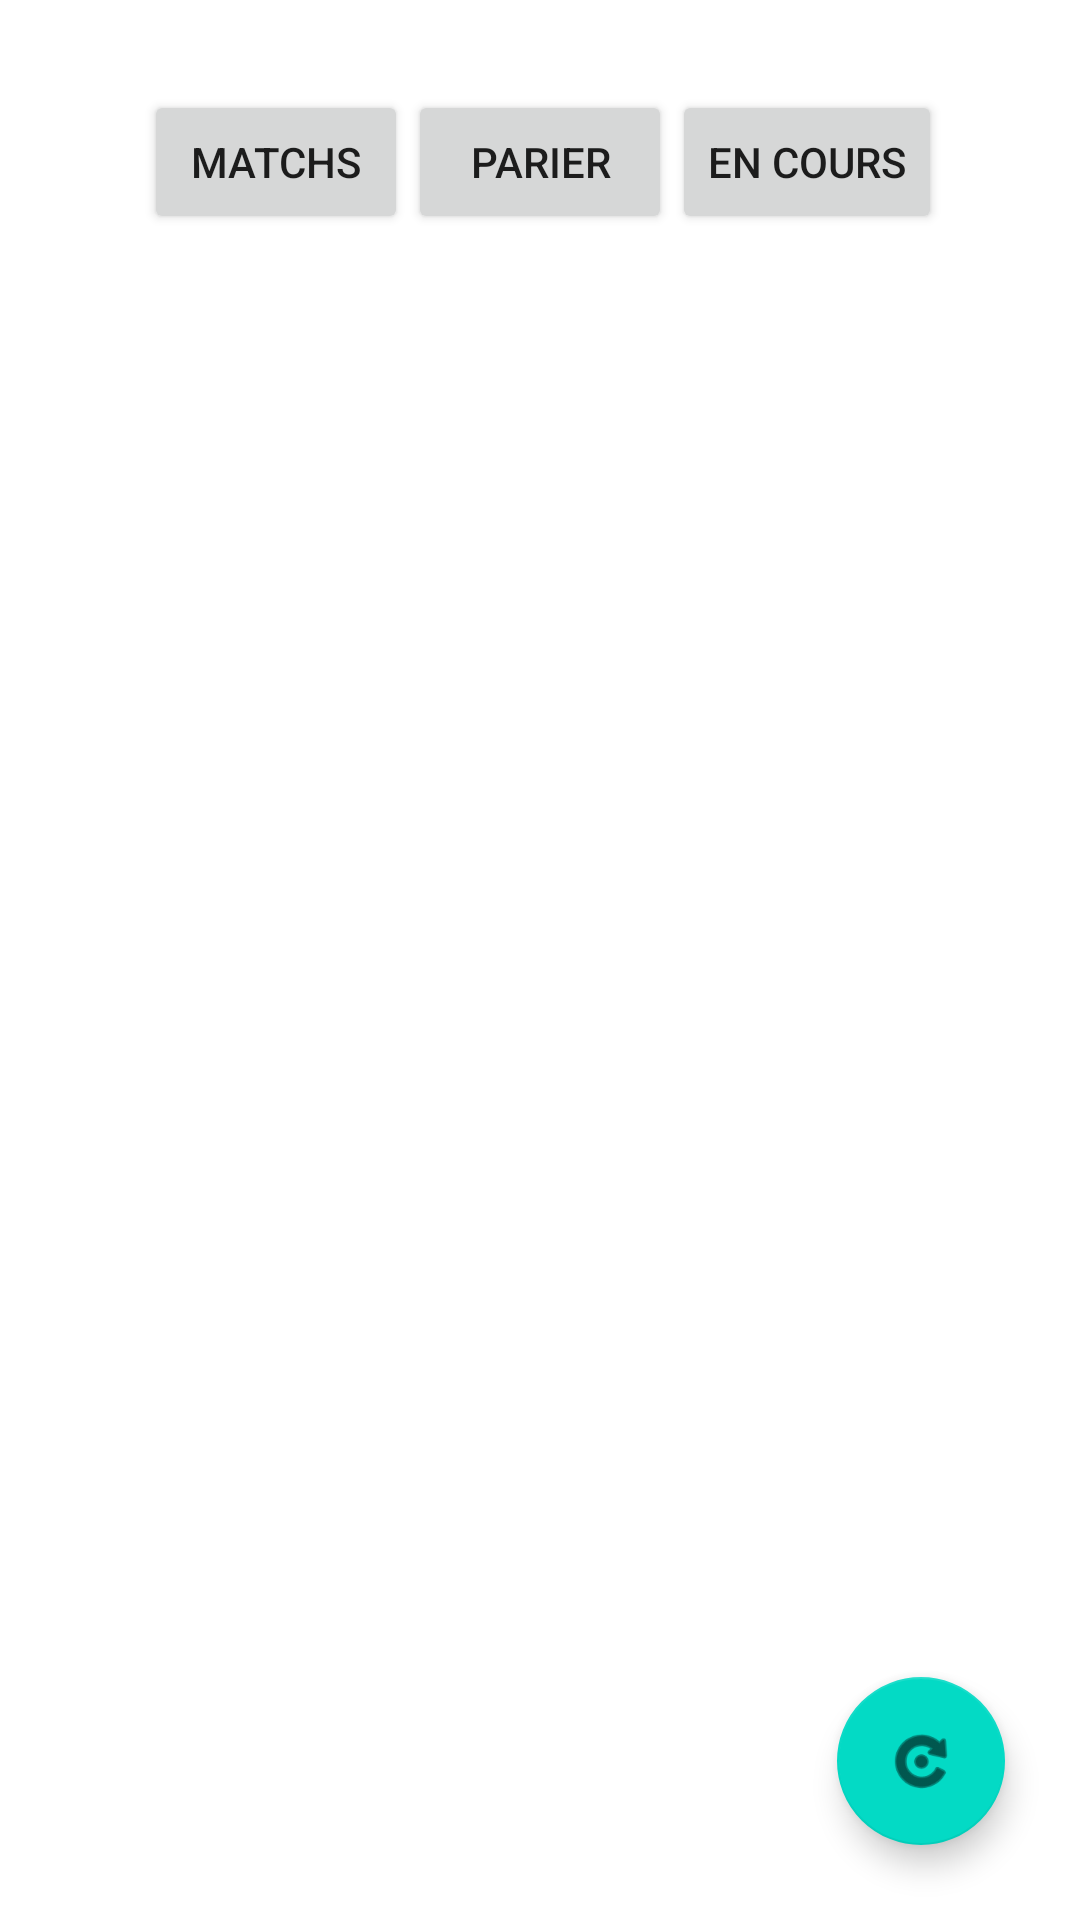

Icons on this 1080×1920 Android screen, each with its box as Rect(x1, y1, x2, y2):
refresh: Rect(837, 1677, 1005, 1845)
